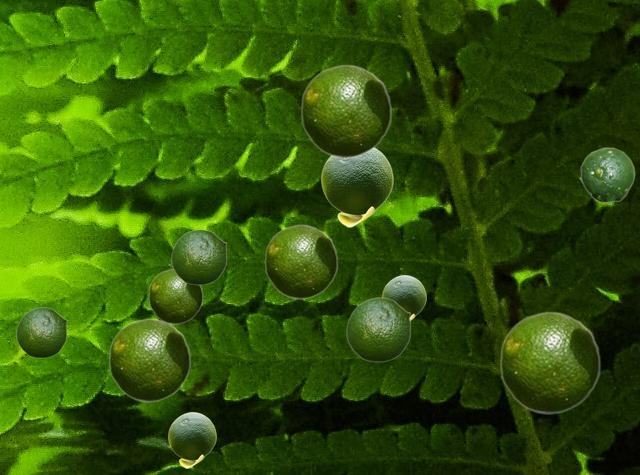calamansi: (499, 311, 600, 413), (300, 64, 391, 157), (108, 318, 190, 401), (321, 148, 392, 226), (264, 224, 337, 298), (346, 297, 410, 361), (171, 229, 226, 284), (148, 268, 202, 323), (580, 147, 634, 202), (168, 412, 215, 467), (16, 307, 66, 357), (382, 275, 425, 320)
